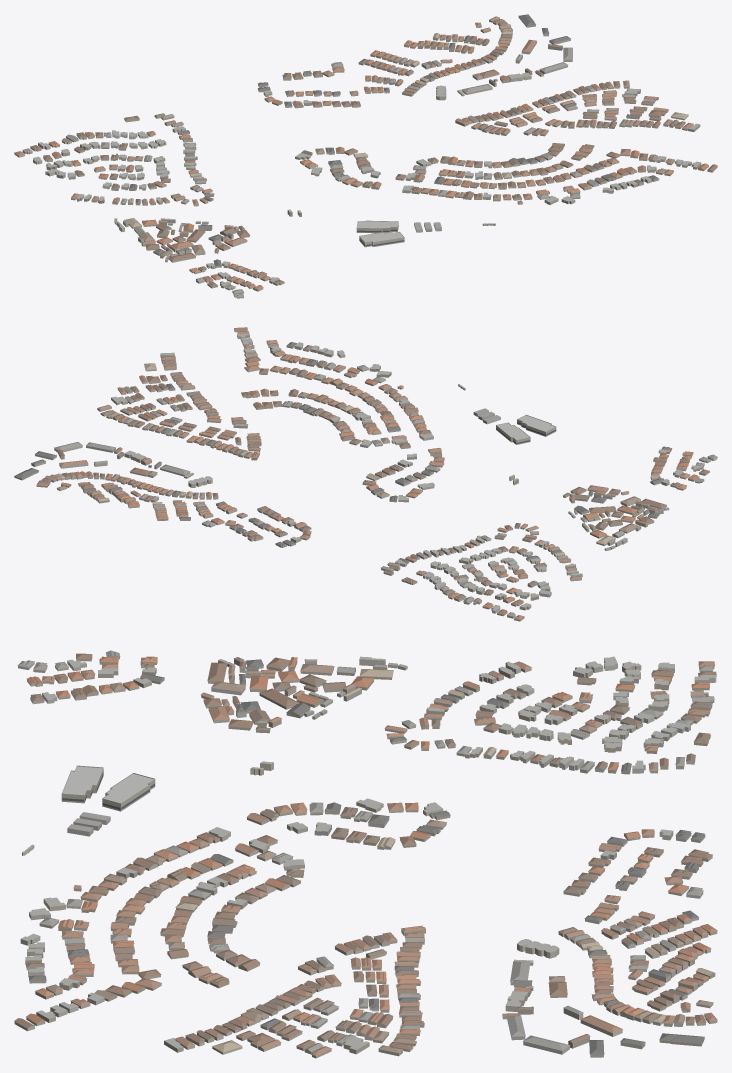
Rendered from buildings_r6_c7.glb.
3 views of the same model, one above another, from view 1: azimuth 30°, elevation 25°; view 2: azimuth 150°, elevation 25°; view 3: azimuth 270°, elevation 25° (orthographic). The views are drawn at different scales.
Visible parts, largest first — view 1: buildings_r6_c7; view 2: buildings_r6_c7; view 3: buildings_r6_c7.
Part boxes in pixels (left/top/right/bottom): buildings_r6_c7: left=14, top=14, right=717, bottom=298; buildings_r6_c7: left=14, top=327, right=717, bottom=621; buildings_r6_c7: left=14, top=650, right=717, bottom=1058.
Bounding box in the file's own units: 1151 × 50.39 × 806.
